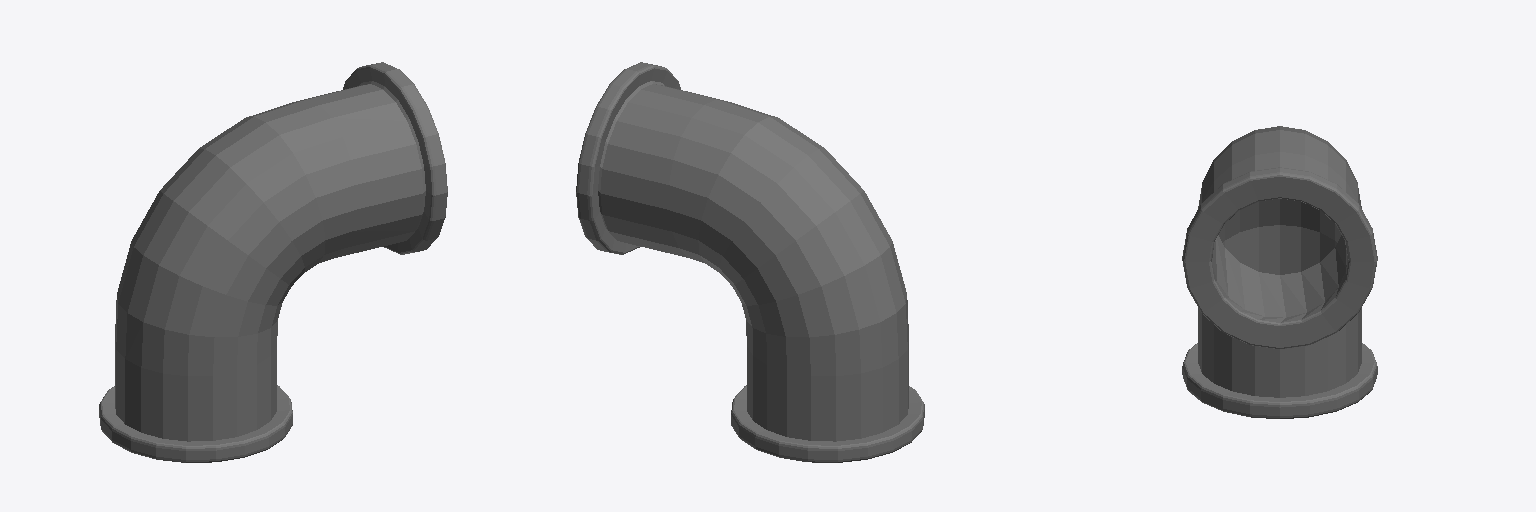
The model's file is pipe_02.obj.
3 views of the same model, side by side, from view 1: azimuth 30°, elevation 25°; view 2: azimuth 150°, elevation 25°; view 3: azimuth 270°, elevation 25° (orthographic).
Parts seen in each view (by area): view 1: pipe_03_Mesh; view 2: pipe_03_Mesh; view 3: pipe_03_Mesh.
Part boxes in pixels (x1,y1,x2,y2): pipe_03_Mesh: (99,62,447,462); pipe_03_Mesh: (576,62,924,462); pipe_03_Mesh: (1182,126,1377,418).
Size of the model in its own units: 2.93 by 2.95 by 1.71.